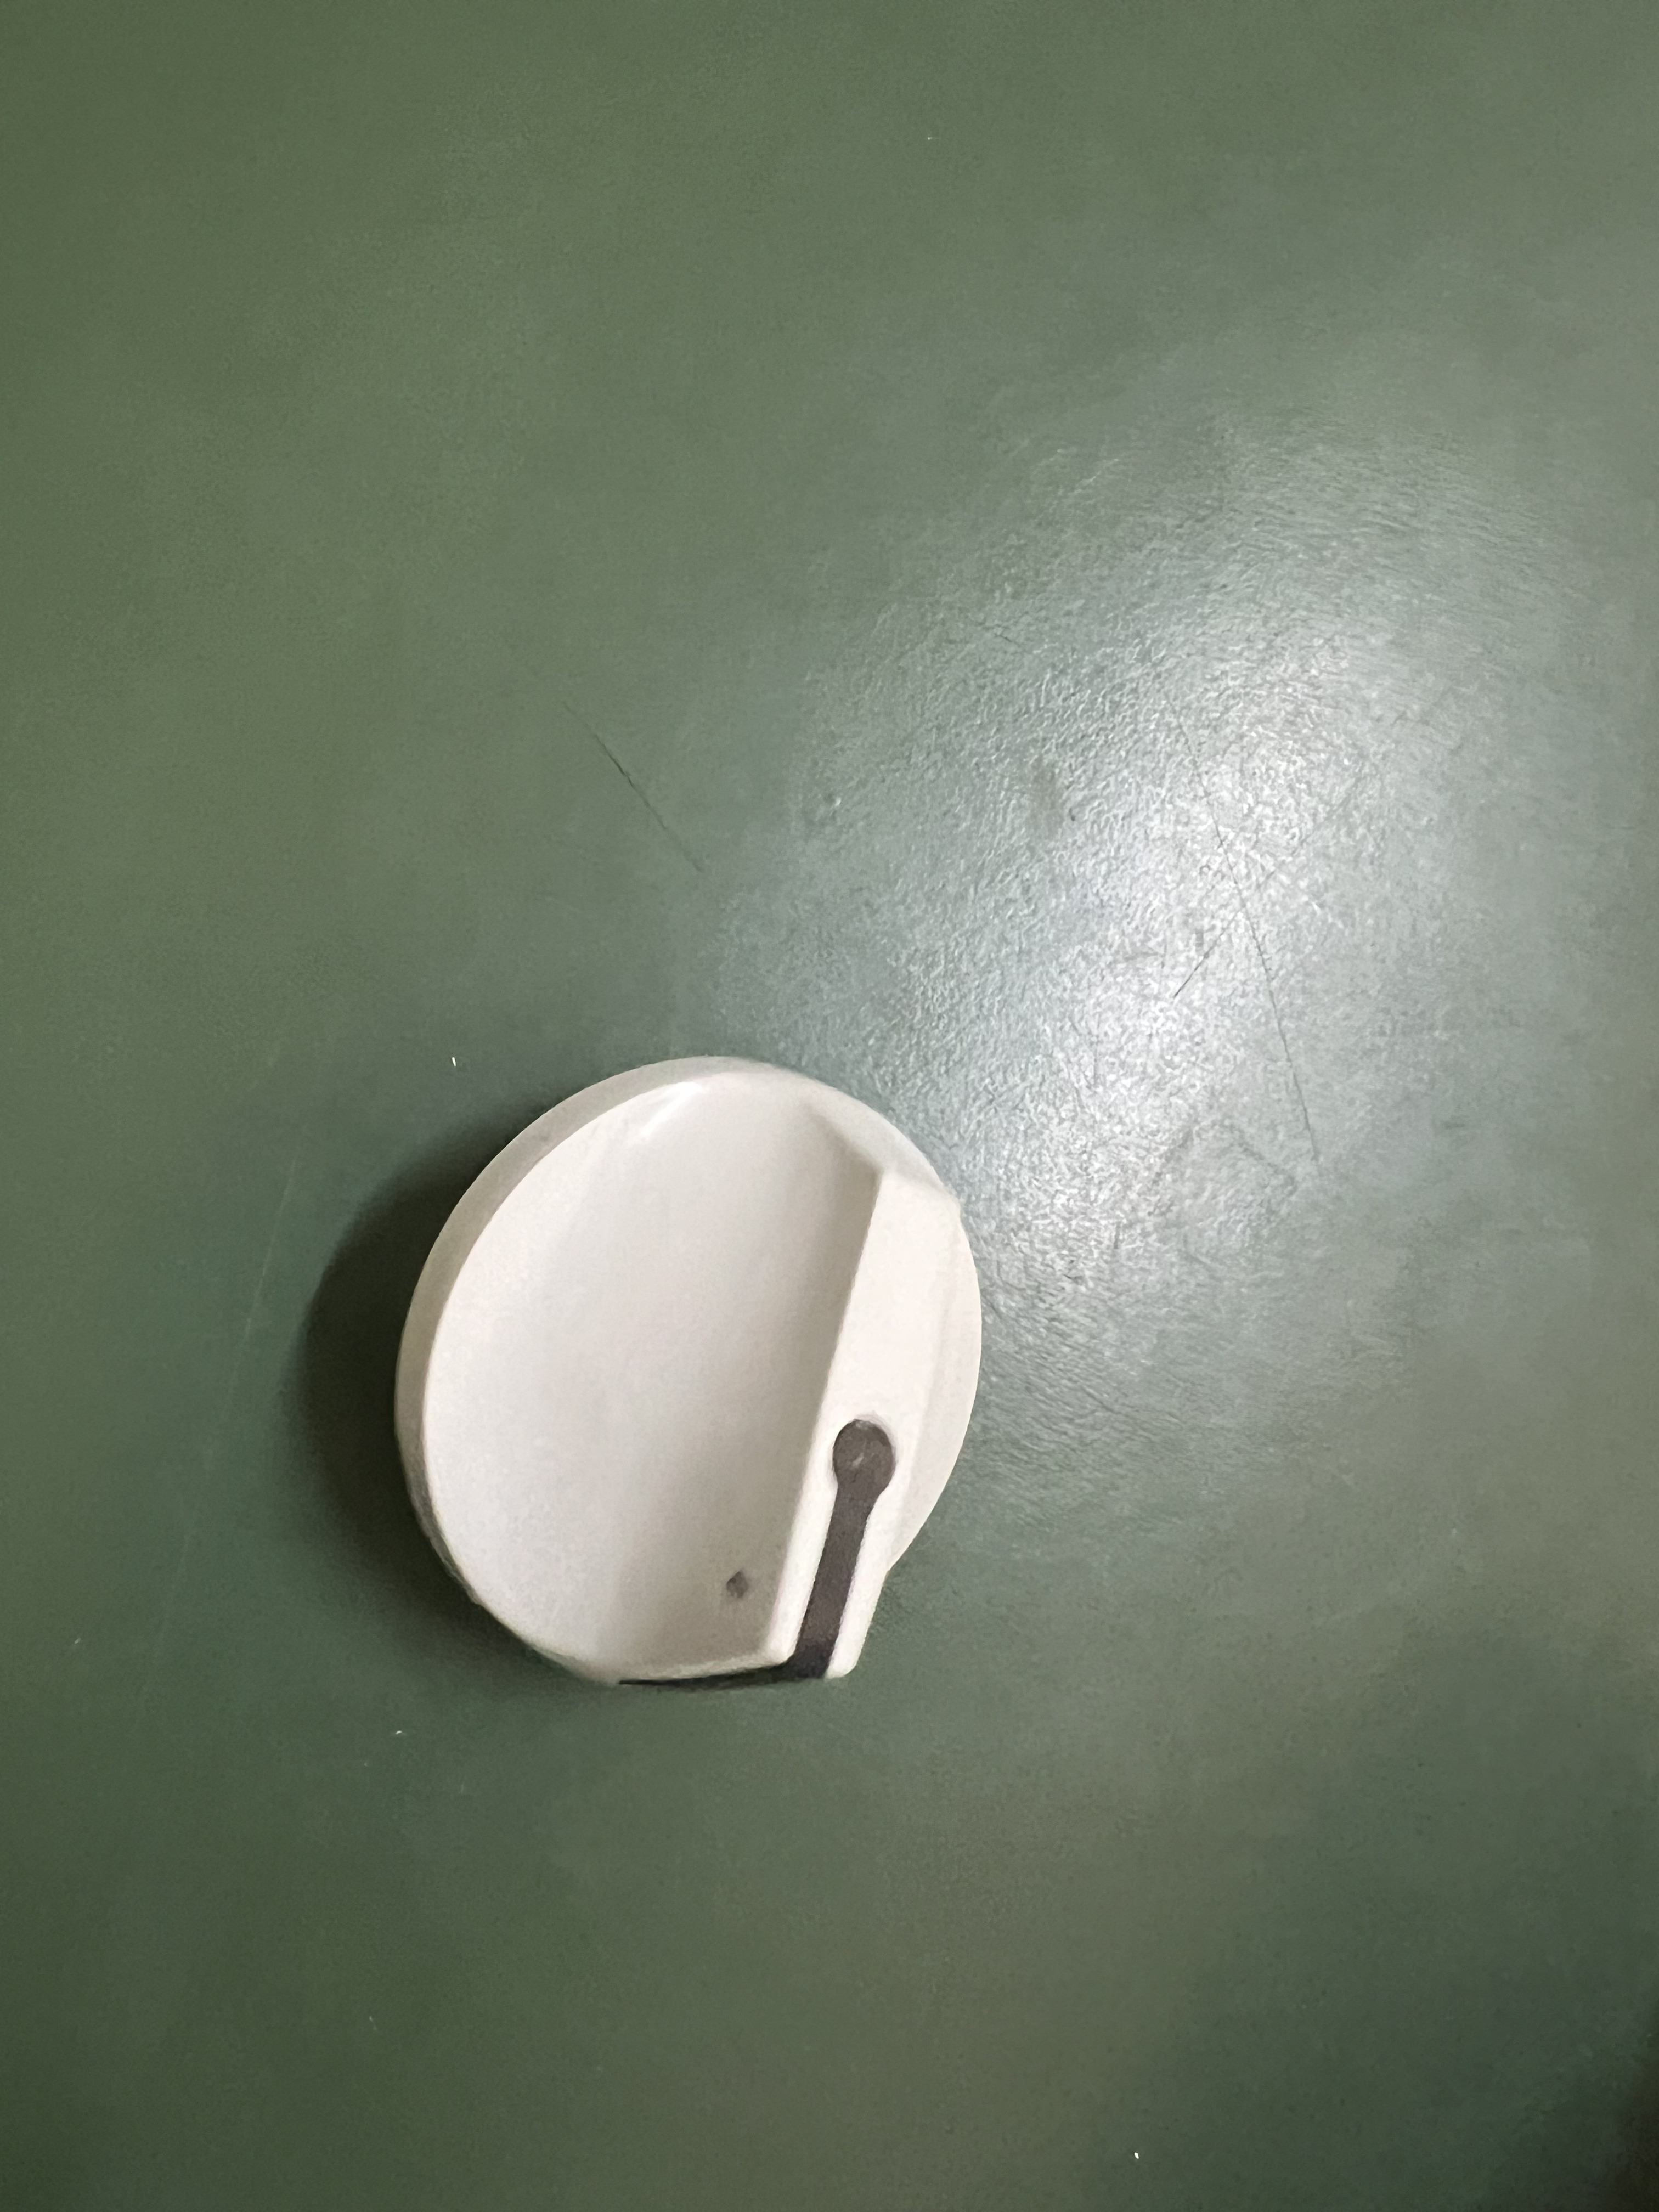regulator: (420, 1033, 1009, 1726)
